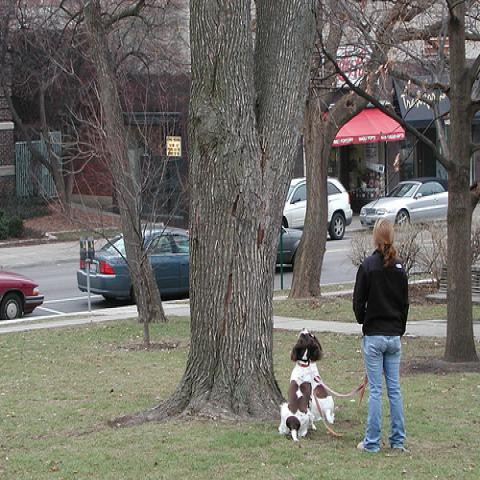car: (78, 229, 190, 303), (358, 177, 449, 234), (282, 176, 353, 240), (0, 268, 45, 321), (274, 226, 304, 269)
